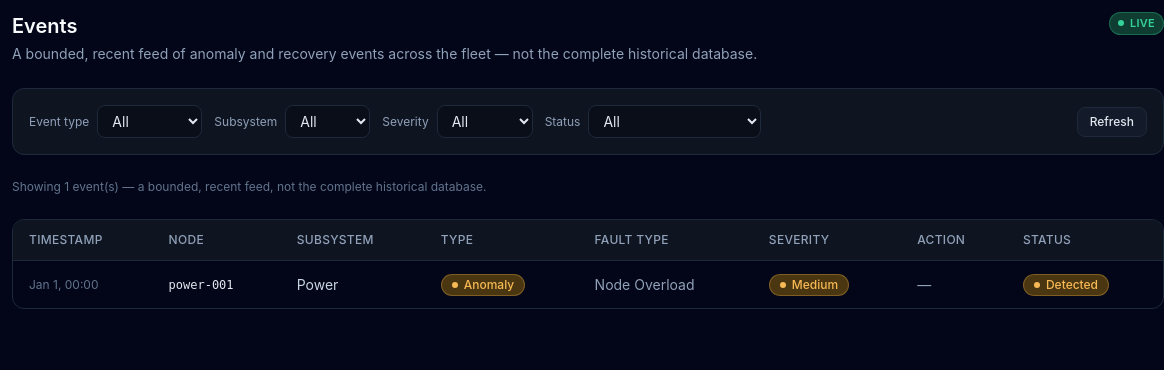
EventsPage (Step 42 — live data) › the Refresh button re-issues the request
This screenshot has width=1164, height=370.
Expected: the link "power-001" is shown, [168,278,234,292]
Click the button "Refresh": (1112, 122) [1077,106,1147,136]
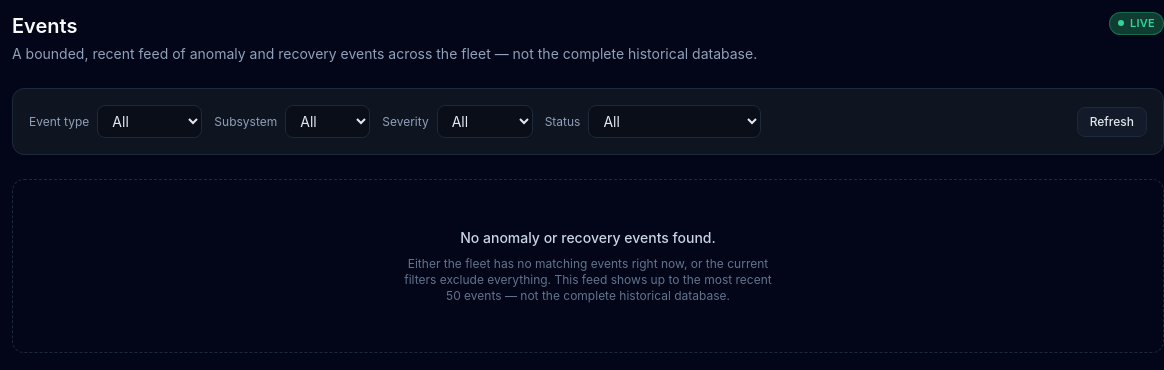
Expected: the text "No anomaly or recovery events found." is shown, [460,228,716,248]
